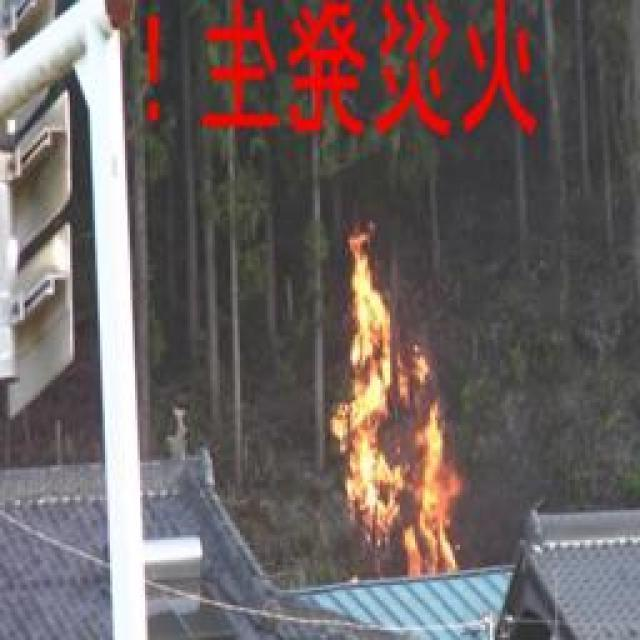Fire: (318, 224, 455, 585)
